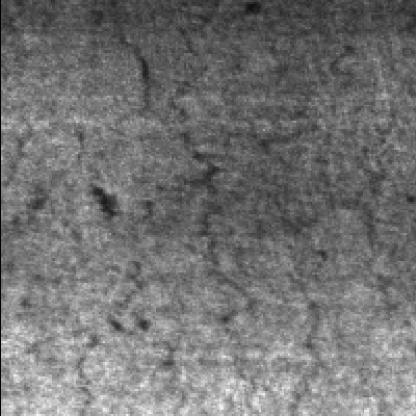crazing: (138, 43, 358, 390), (8, 116, 130, 385), (104, 0, 233, 127)
